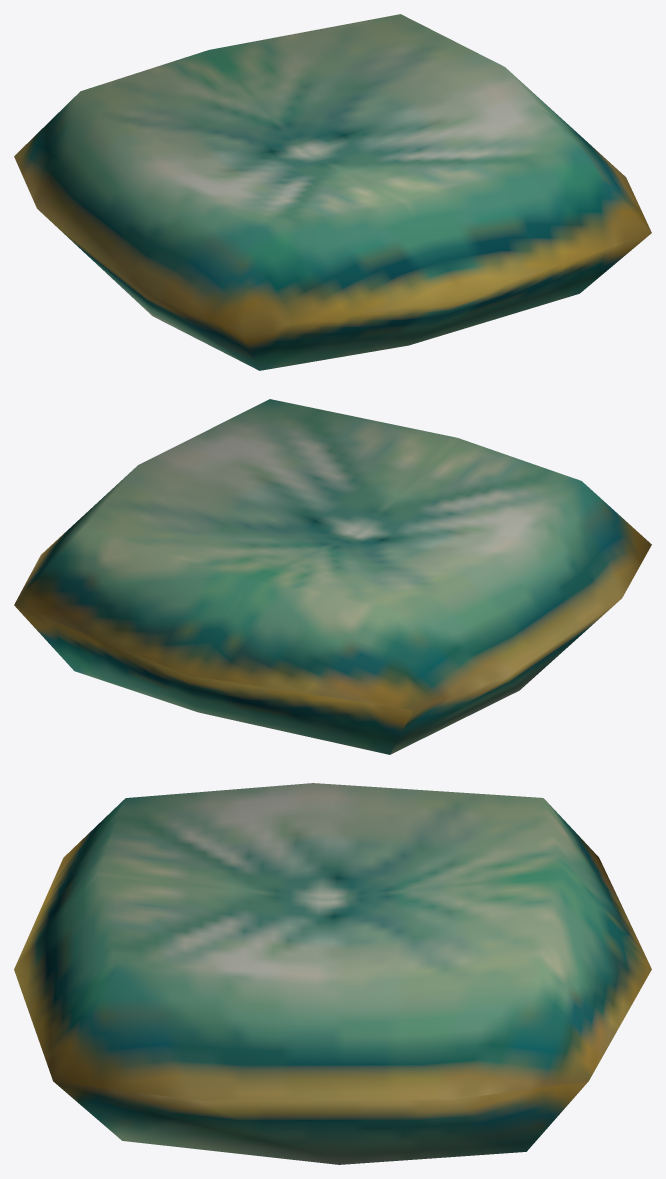
The picture shows the model from 3 angles, top to bottom: view 1: azimuth 30°, elevation 25°; view 2: azimuth 150°, elevation 25°; view 3: azimuth 270°, elevation 25°; orthographic projection. The views are drawn at different scales.
Parts seen in each view (by area): view 1: zc_zt_03; view 2: zc_zt_03; view 3: zc_zt_03.
Part boxes in pixels (x1,y1,x2,y2): zc_zt_03: (14, 14, 651, 370); zc_zt_03: (14, 399, 651, 754); zc_zt_03: (14, 783, 651, 1164).
Bounding box in the file's own units: 103 × 30.87 × 104.
